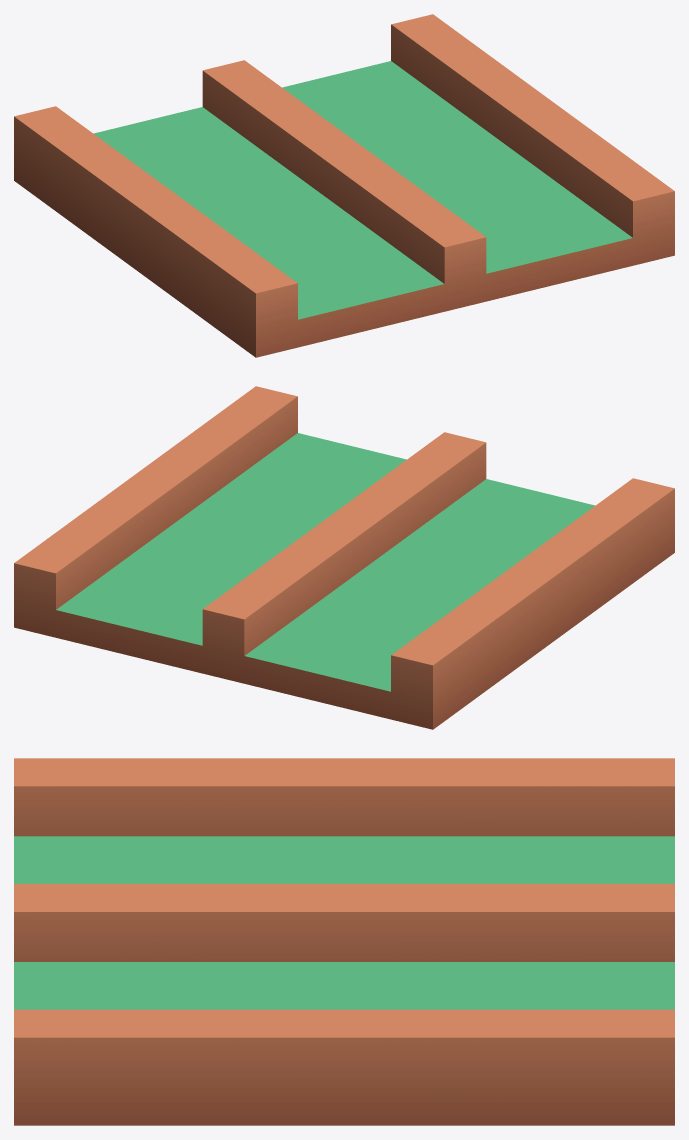
The model's file is split.glb.
3 views of the same model, one above another, from view 1: azimuth 30°, elevation 25°; view 2: azimuth 150°, elevation 25°; view 3: azimuth 270°, elevation 25° (orthographic). The views are drawn at different scales.
Visible parts, largest first — view 1: split; view 2: split; view 3: split.
Boxes of the visible parts, x1,y1,x2,y2 form: split: (14,14,674,357); split: (14,386,674,729); split: (14,758,674,1125).
Bounding box in the file's own units: 0.9999 × 0.1467 × 0.9999.
Materials: 1 (1 with a texture image).
